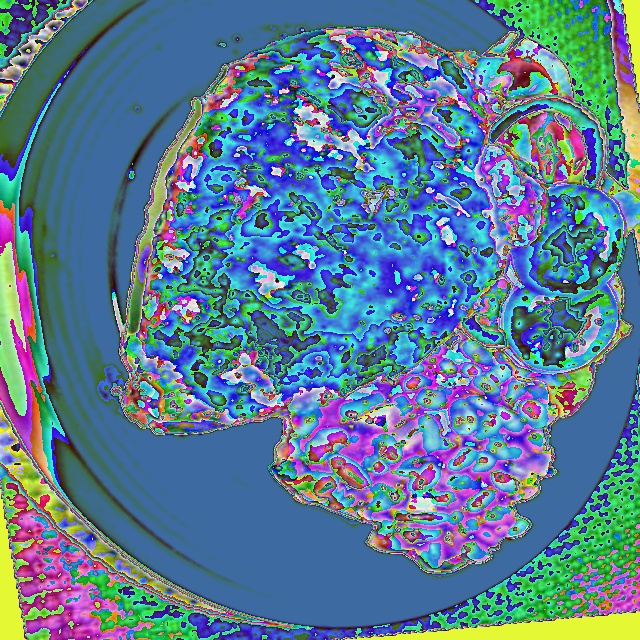background: (120, 27, 639, 574)
